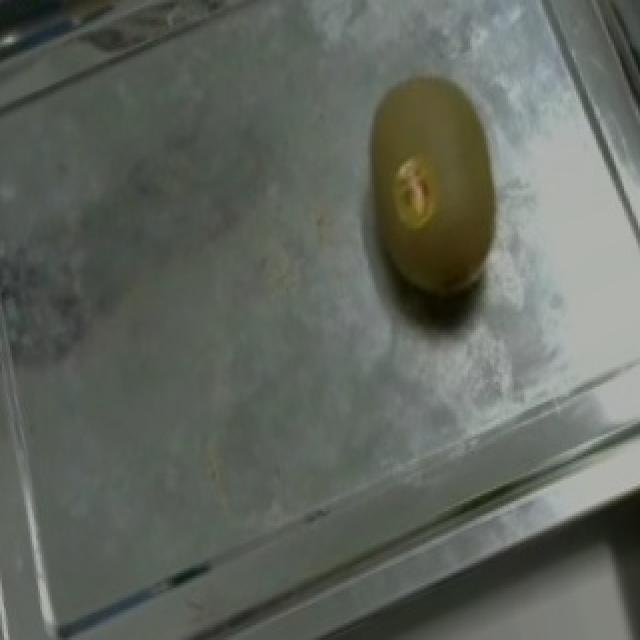Fruit: (320, 47, 540, 342)
